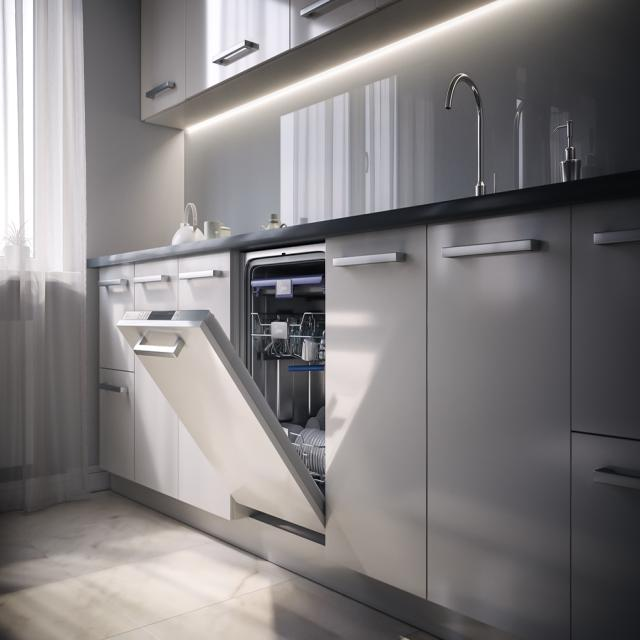dishwasher: (224, 208, 336, 564)
